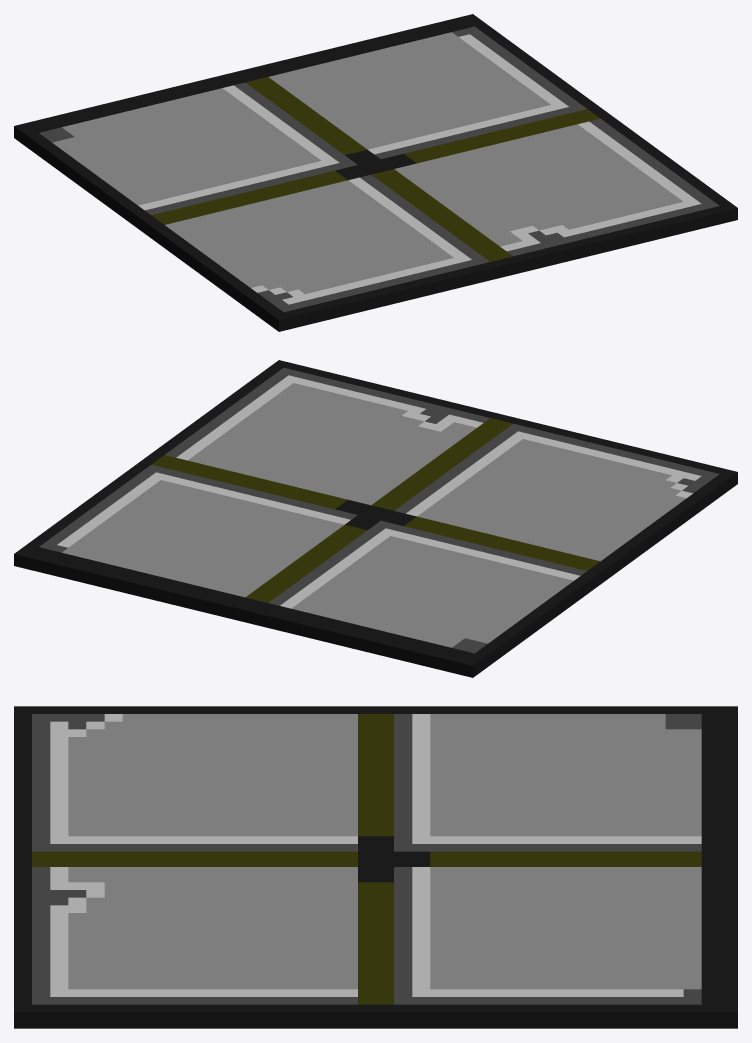
Rendered from floor1.obj.
3 views of the same model, one above another, from view 1: azimuth 30°, elevation 25°; view 2: azimuth 150°, elevation 25°; view 3: azimuth 270°, elevation 25° (orthographic). The views are drawn at different scales.
Parts seen in each view (by area): view 1: floor1; view 2: floor1; view 3: floor1.
Boxes of the visible parts, box(x1,y1,x2,y2) form: floor1: box(14, 14, 737, 331); floor1: box(14, 360, 737, 677); floor1: box(14, 706, 737, 1028).
Bounding box in the file's own units: 40 × 1 × 40.
Materials: 1 (1 with a texture image).
